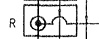Single Phase Tap-Off Unit: (21, 2, 82, 39)
